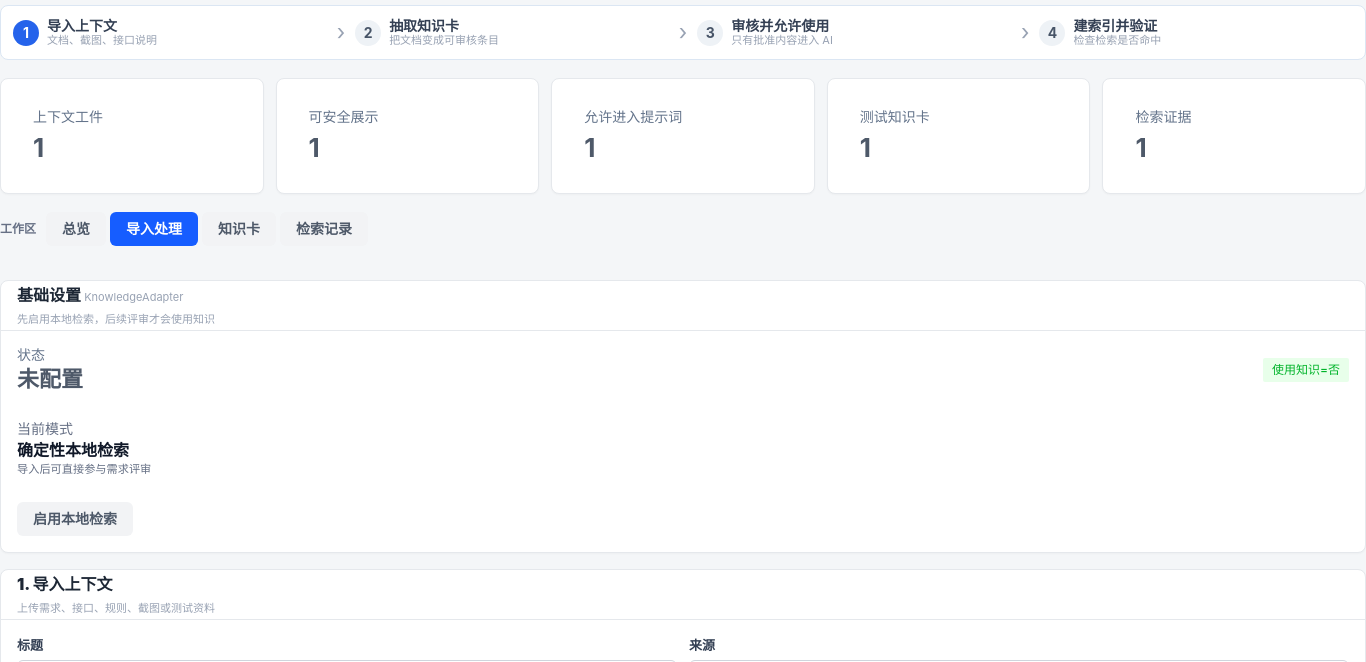
Test: KnowledgeBaseView › loads context artifacts, adapter state, and MCP-ready tool schema
Step 1. Click the button with test id "view-retrieval" → (324, 229), box [280,212,368,246]
(page scrolled)
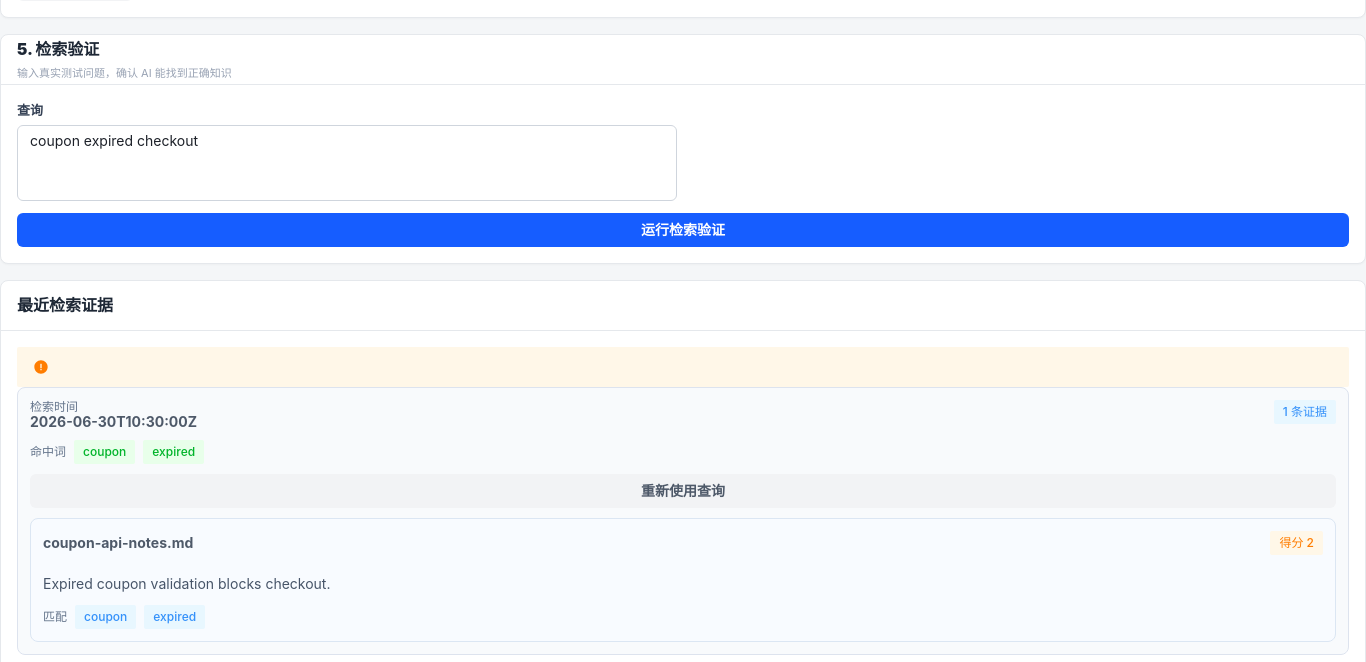
Check: the text "2026-06-30T10:30:00Z" is shown, box [30,413,197,430]
Check: the element with test id "recent-knowledge-retrieval-row" is shown, box [17,387,1349,655]
Step 2. Click the button with test id "resume-knowledge-retrieval" → (683, 491), box [30,474,1336,508]
(page scrolled)
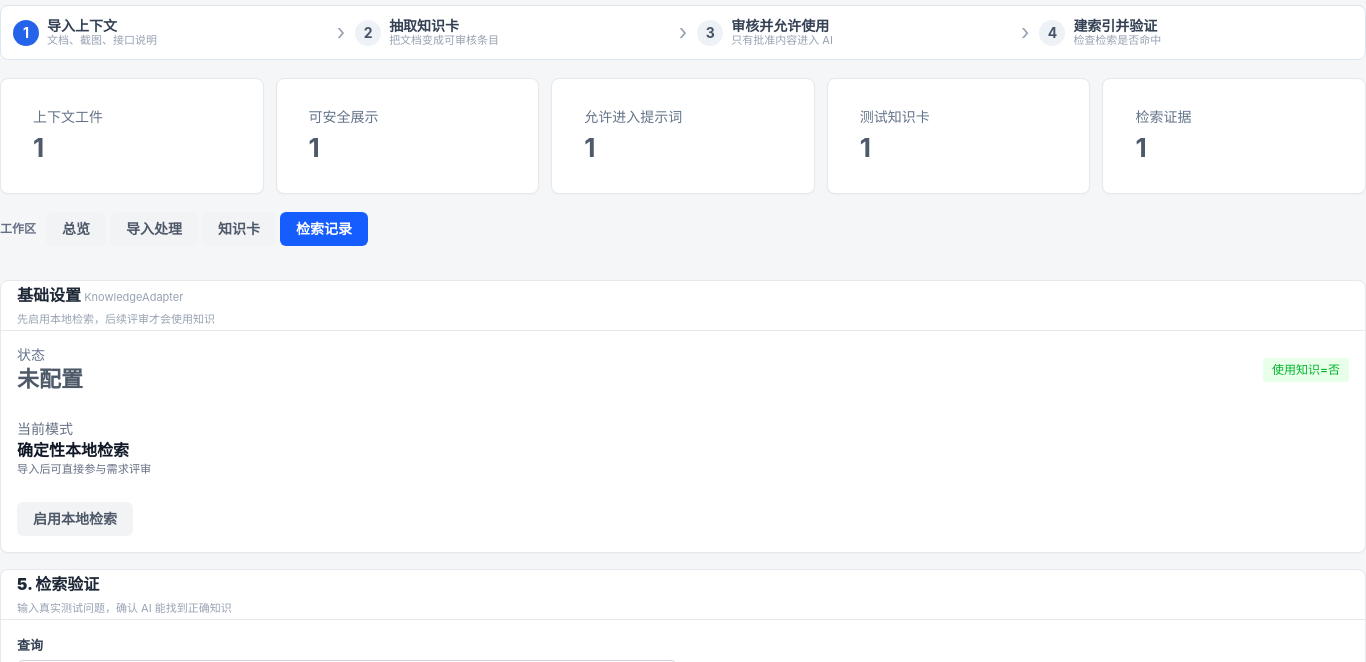
Step 3. Click the button with test id "view-cards" → (239, 229), box [202,212,276,246]
(page scrolled)
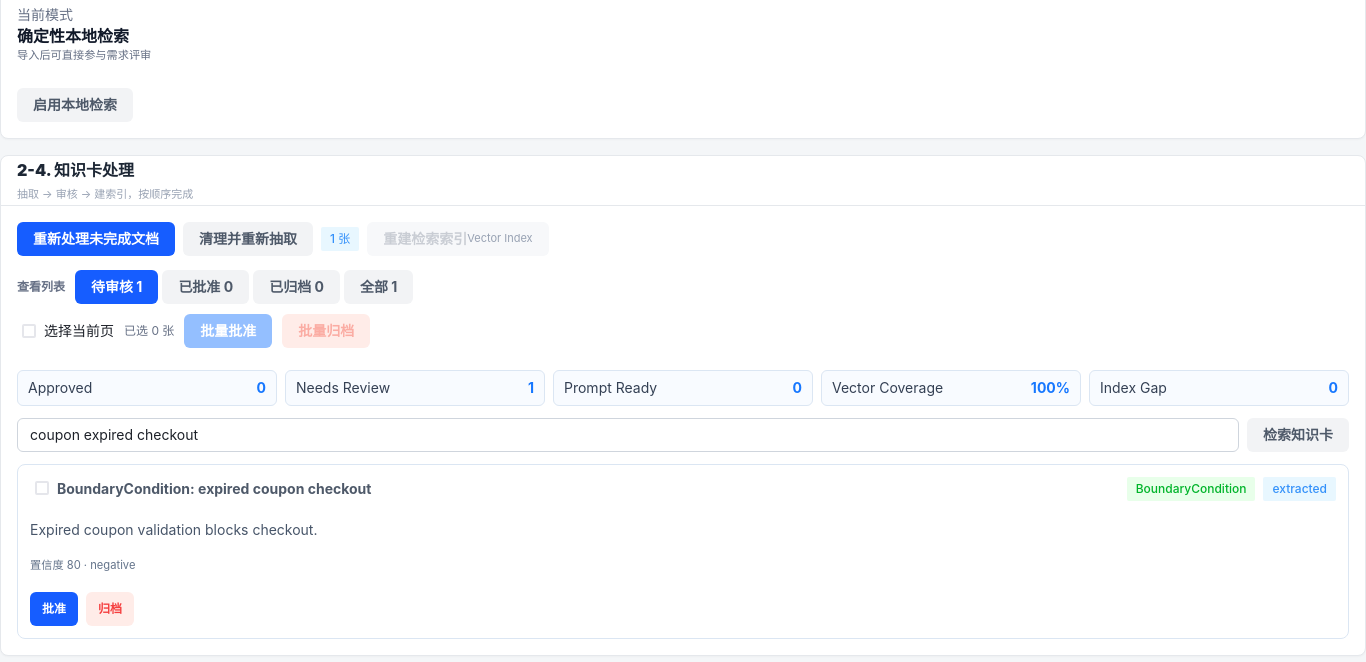
Check: the element with test id "knowledge-base-page" shows "BoundaryCondition: expired coupon checkout", box [57,480,372,497]
Check: the element with test id "knowledge-base-page" shows "Vector Index", box [367,222,549,256]
Check: the element with test id "knowledge-base-page" shows "Vector Coverage", box [832,379,943,396]
